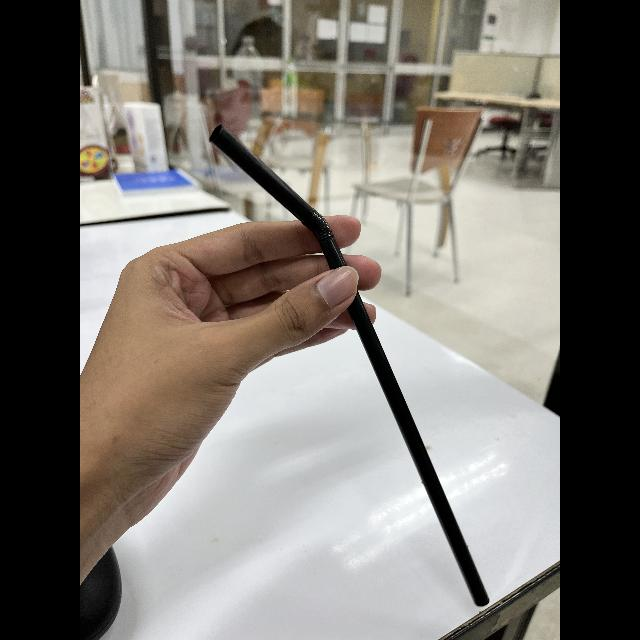straw: (204, 117, 498, 618)
